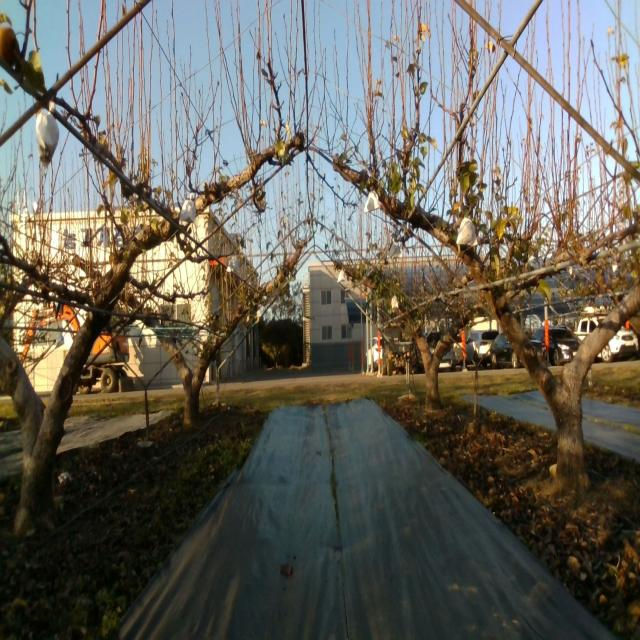pearbags: (36, 99, 61, 171), (456, 218, 478, 246), (178, 193, 196, 227), (364, 190, 380, 213), (388, 242, 403, 264)
